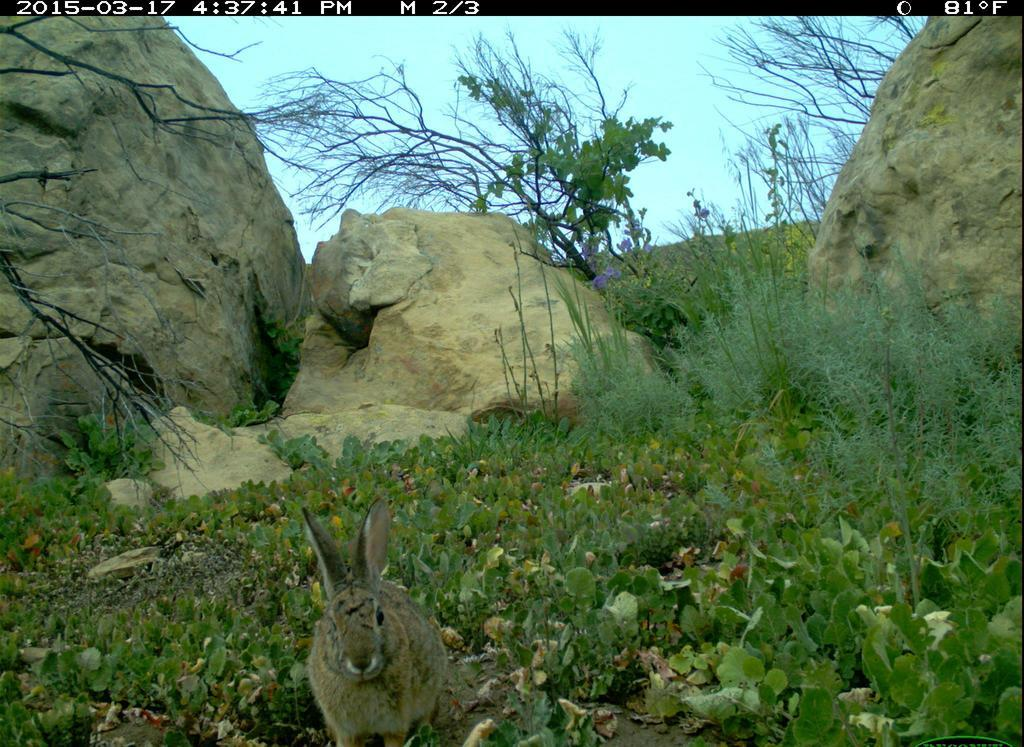rabbit: (267, 483, 466, 743)
